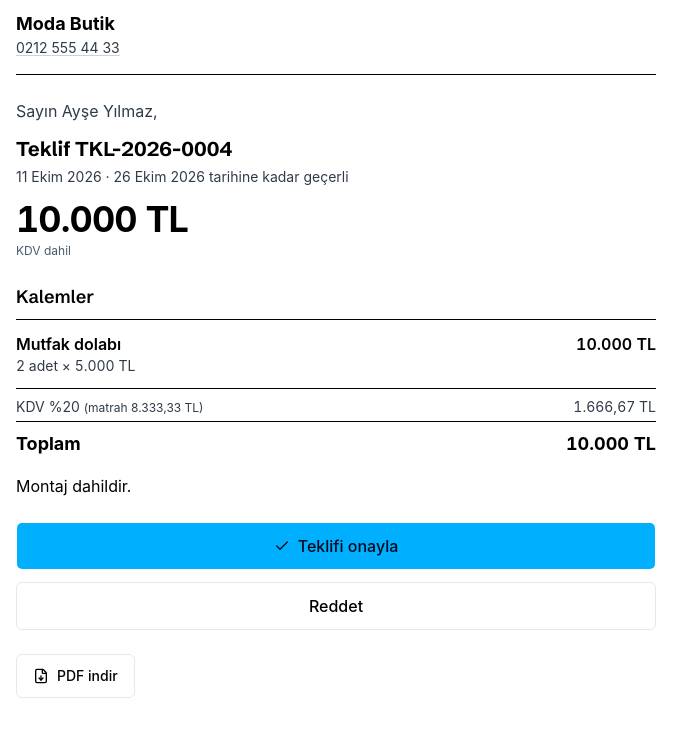
Test: QuoteView › shows the quote and accepts it
The image size is (673, 730).
Expected: the text "Sayın Ayşe Yılmaz," is shown, [16,101,158,121]
Expected: the text "Mutfak dolabı" is shown, [16,332,135,356]
Click the button "Teklifi onayla": (336, 546) [16,522,656,570]
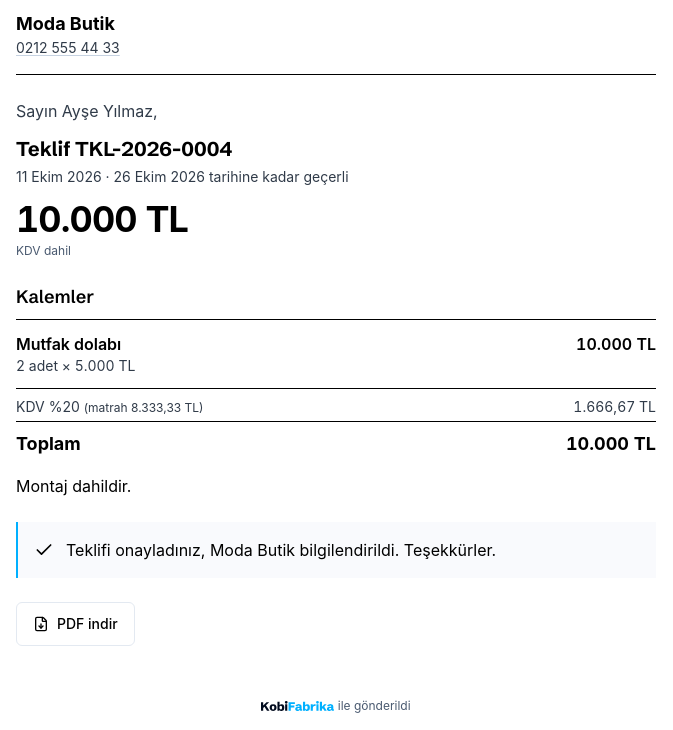
Now the text "Teklifi onayladınız" is shown, box [66,540,210,560]
